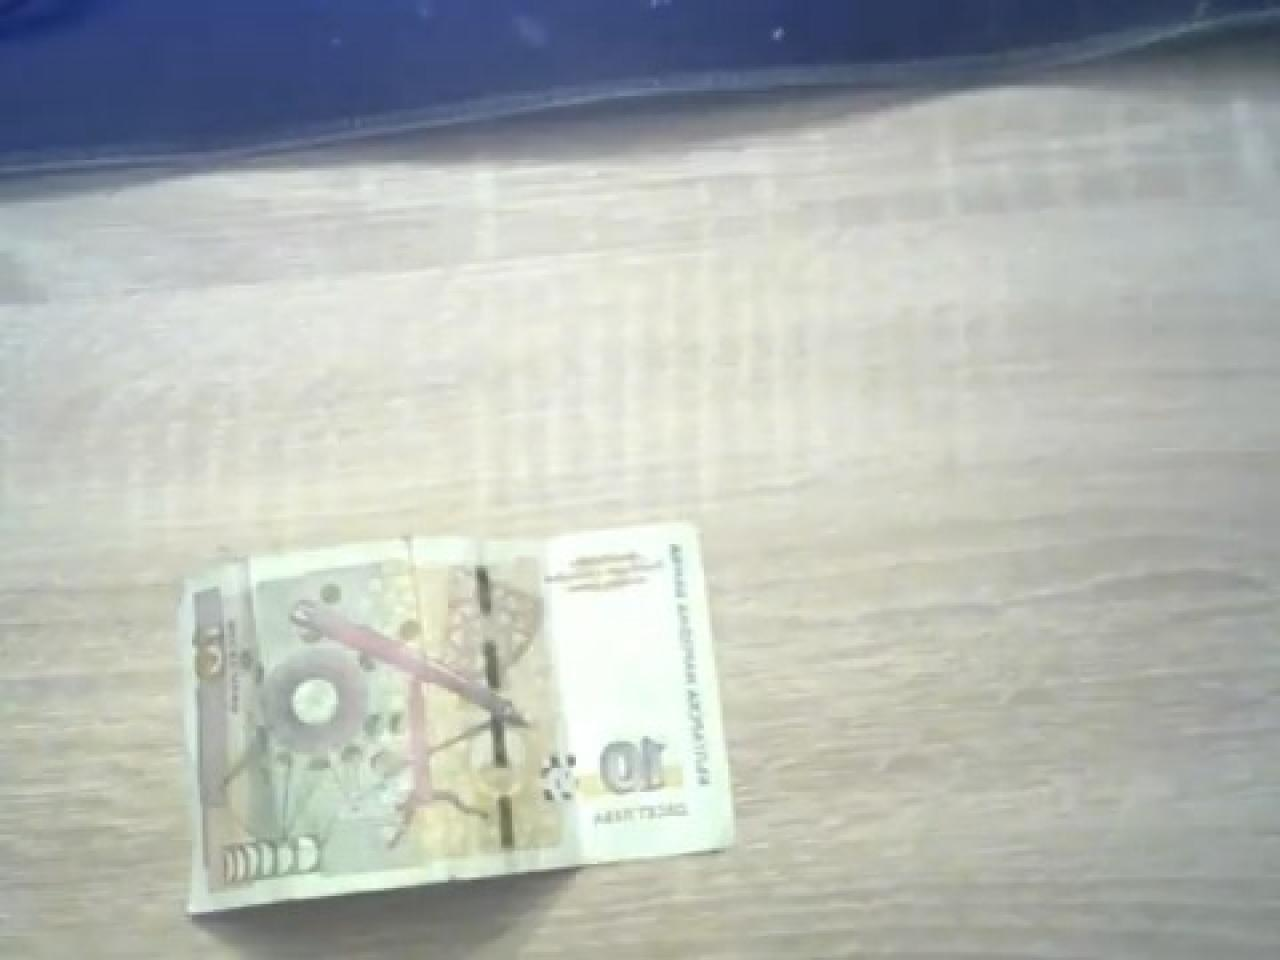10leva: (176, 522, 739, 920)
